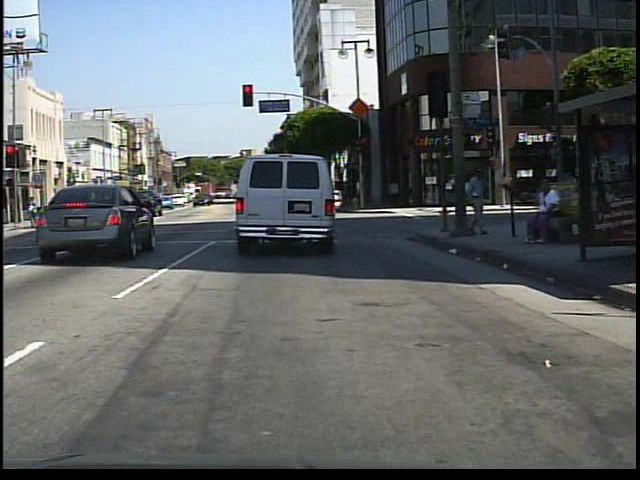person: (522, 176, 567, 246), (464, 163, 494, 239), (34, 196, 35, 230)
